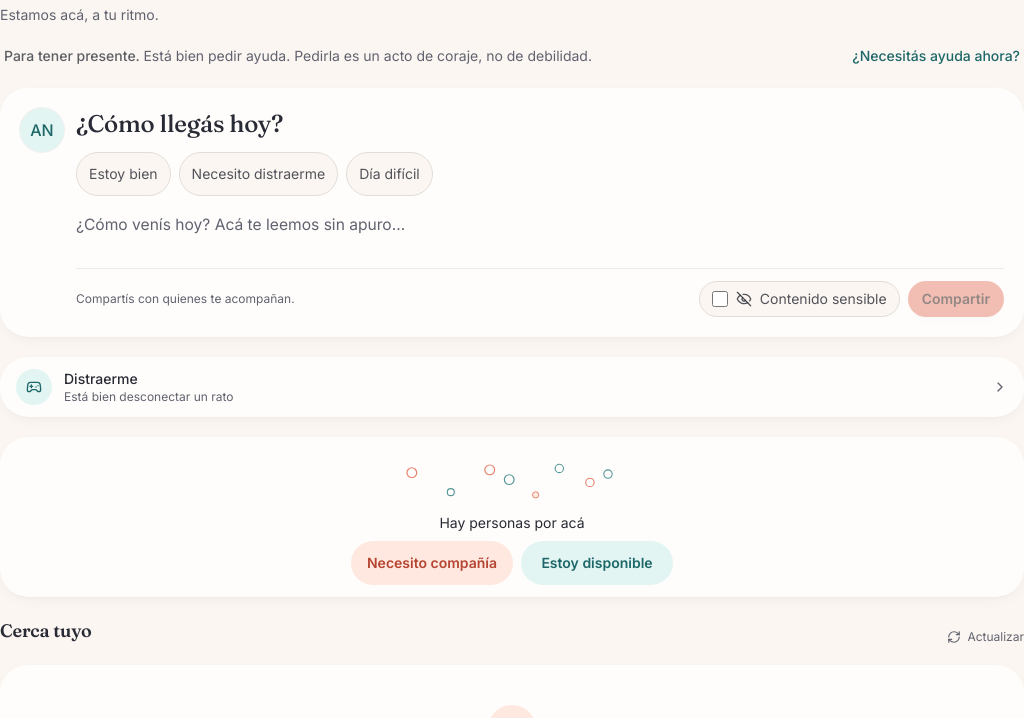
Test: FeedPage · respuesta cuidada al ánimo › after "Día difícil" offers to breathe right there, company, or letting go — and a quiet way to help
The image size is (1024, 718).
Click the button "Día difícil".
click(390, 174)  # box [346,152,433,196]
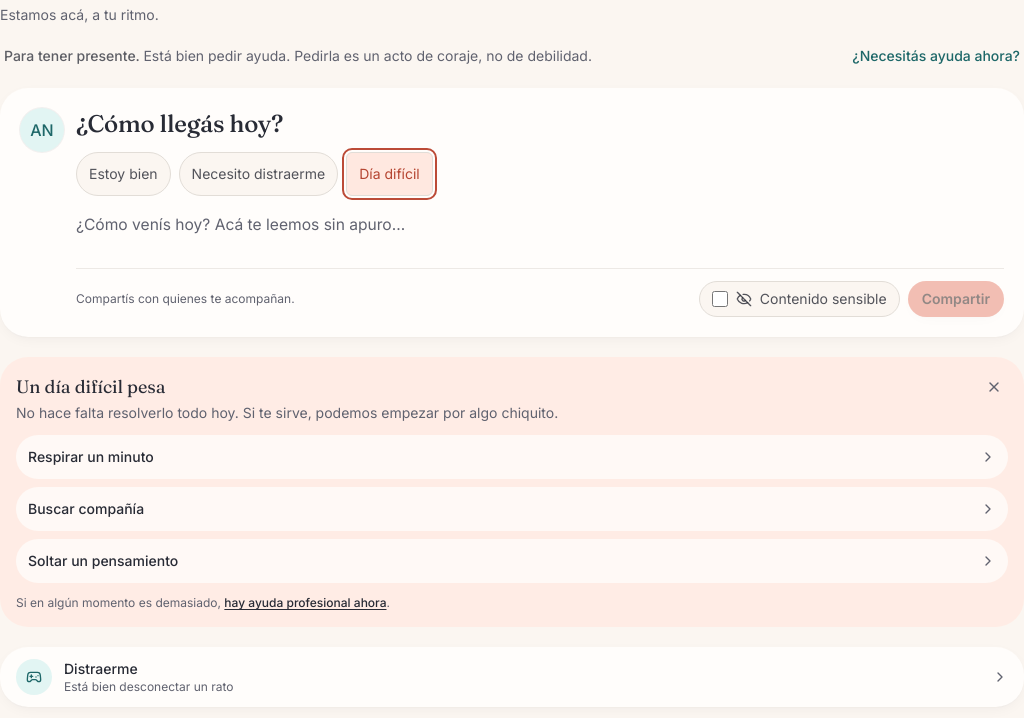
Click the button "Respirar un minuto".
click(91, 457)  # box [16,435,1008,479]
(page scrolled)
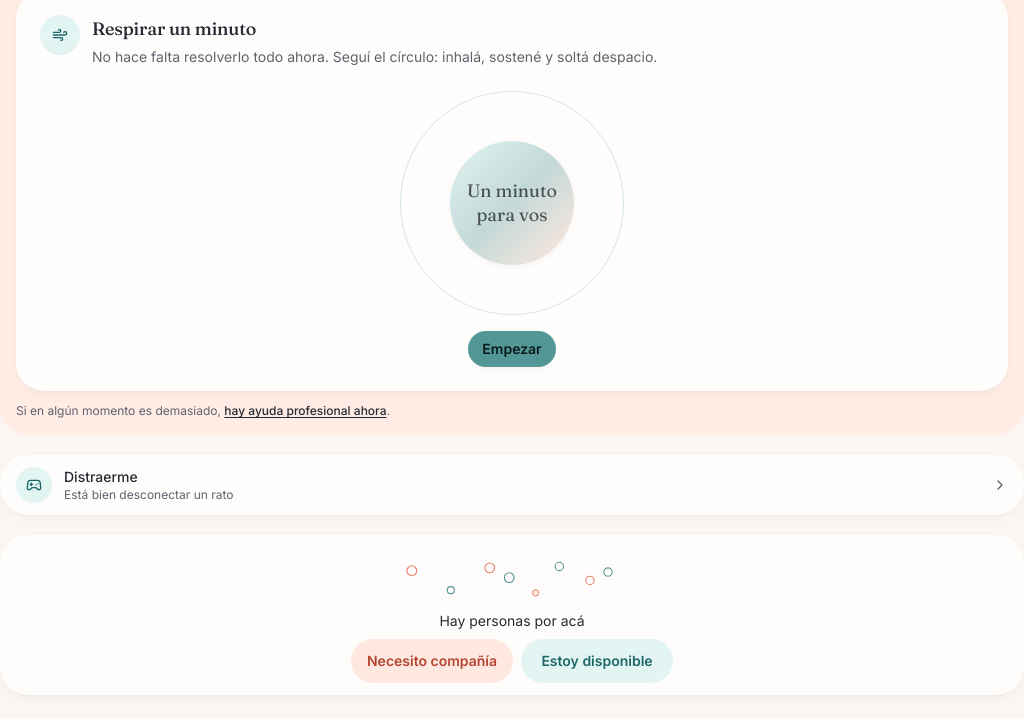
Expected: the button "Empezar" is shown, [468,331,556,367]
